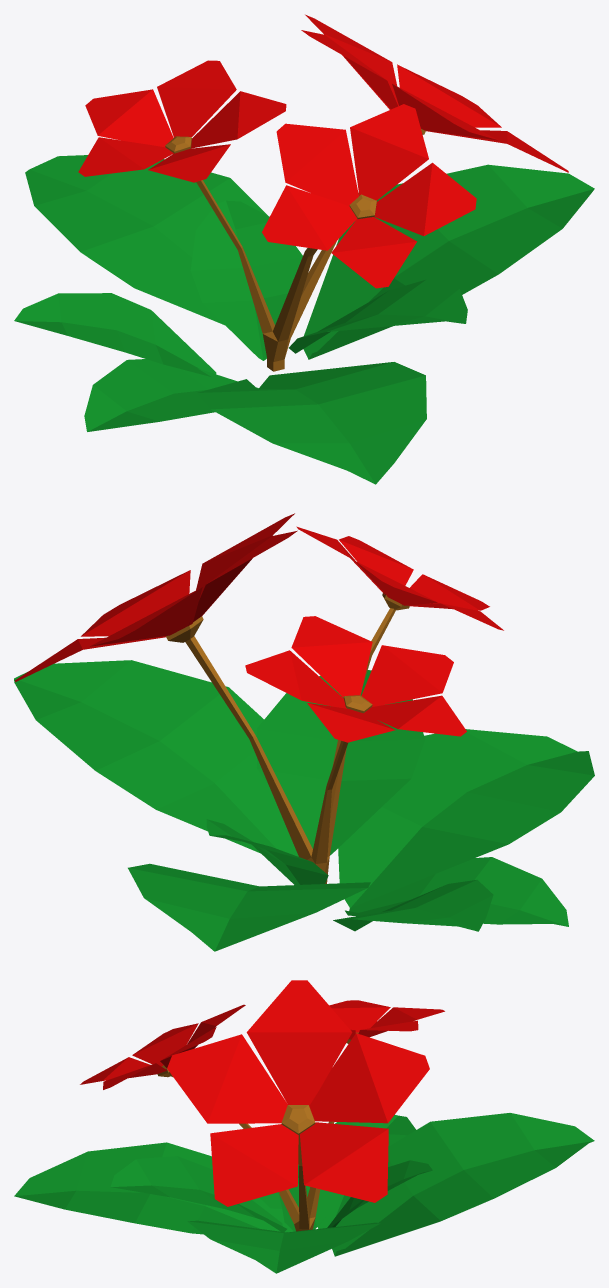
Rendered from Flower Red.fbx.
The picture shows the model from 3 angles, top to bottom: view 1: azimuth 30°, elevation 25°; view 2: azimuth 150°, elevation 25°; view 3: azimuth 270°, elevation 25°; orthographic projection. The views are drawn at different scales.
Visible parts, largest first — view 1: FlowerRed; view 2: FlowerRed; view 3: FlowerRed.
Boxes of the visible parts, x1,y1,x2,y2 form: FlowerRed: (14, 14, 594, 484); FlowerRed: (14, 513, 594, 951); FlowerRed: (14, 980, 594, 1273).
Size of the model in its own units: 203 by 132 by 235.
1 material, 1 textured.
